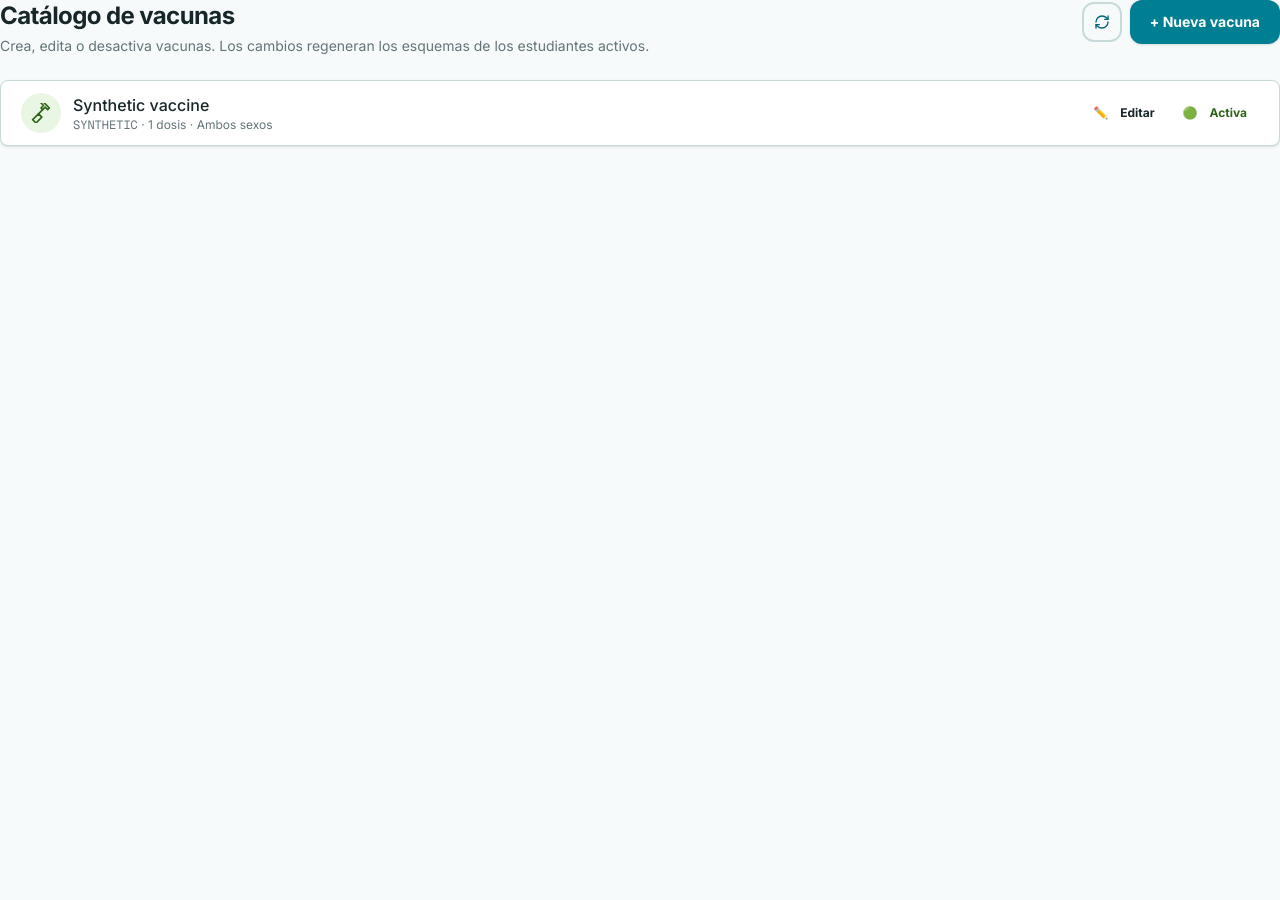
Test case: opens a named modal with initial focus and associated field/select/group labels
Click the button "+ Nueva vacuna" at (1205, 22), box x1=1130 y1=0 x2=1279 y2=44
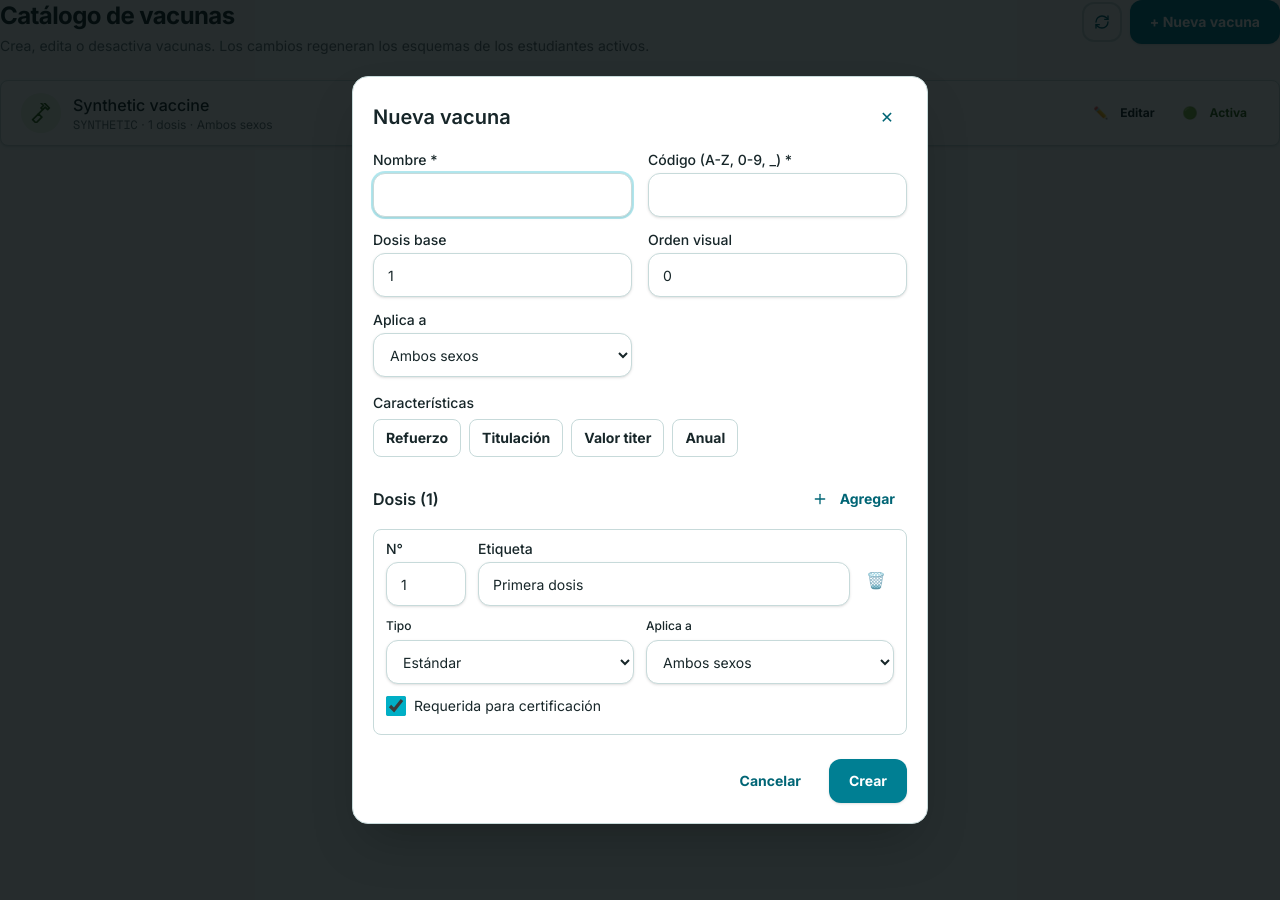
Check: the field labelled "Código (A-Z, 0-9, _) *" is shown, box x1=648 y1=173 x2=907 y2=217
Check: the number field labelled "Dosis base" is shown, box x1=373 y1=253 x2=632 y2=297
Check: the element "Características" is shown, box x1=373 y1=394 x2=738 y2=457
